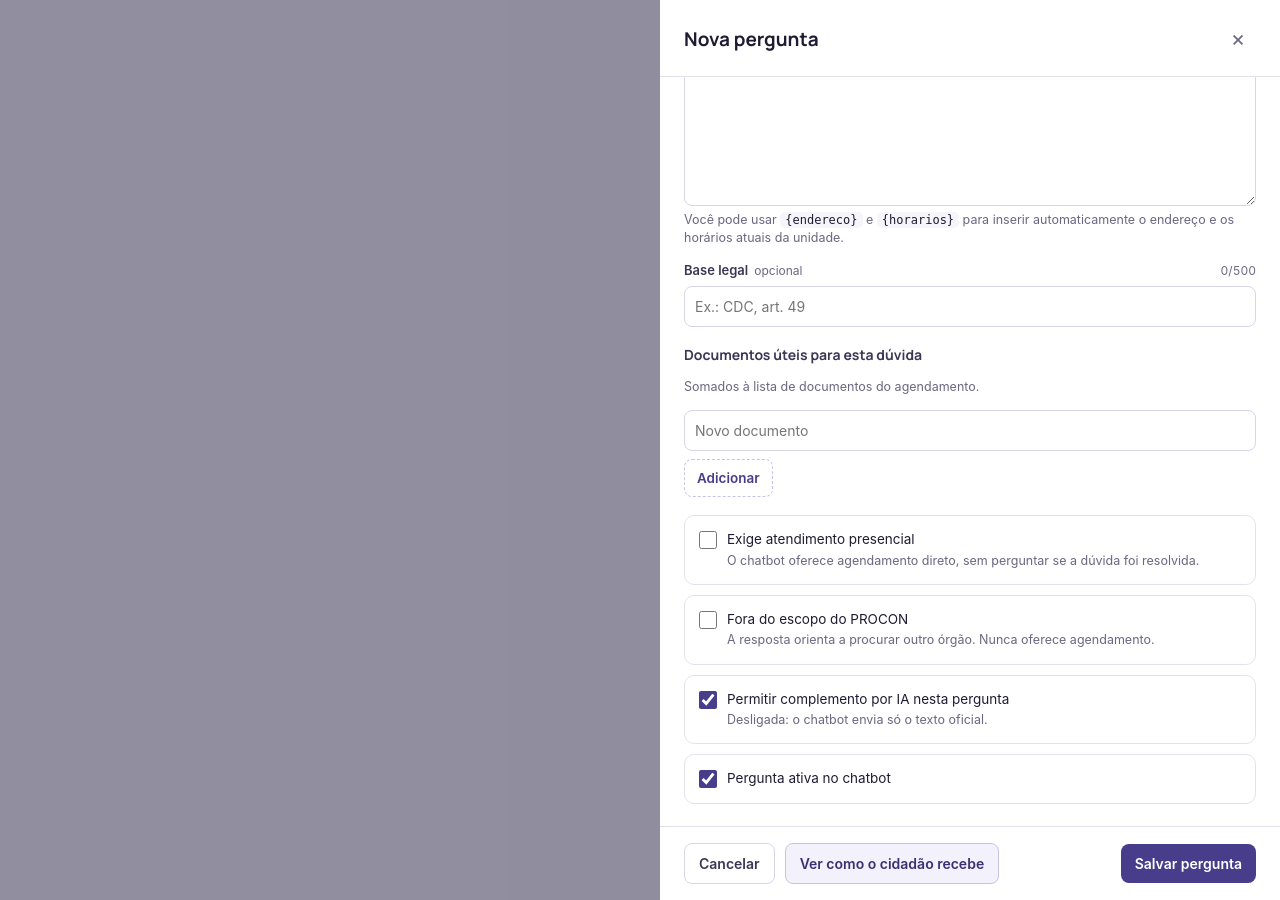
ContentQuestionForm › marcar presencial desabilita Fora do escopo e vice-versa
(page scrolled)
Click the checkbox labelled "Exige atendimento presencial" at (708, 540), box 699,531 -> 717,549
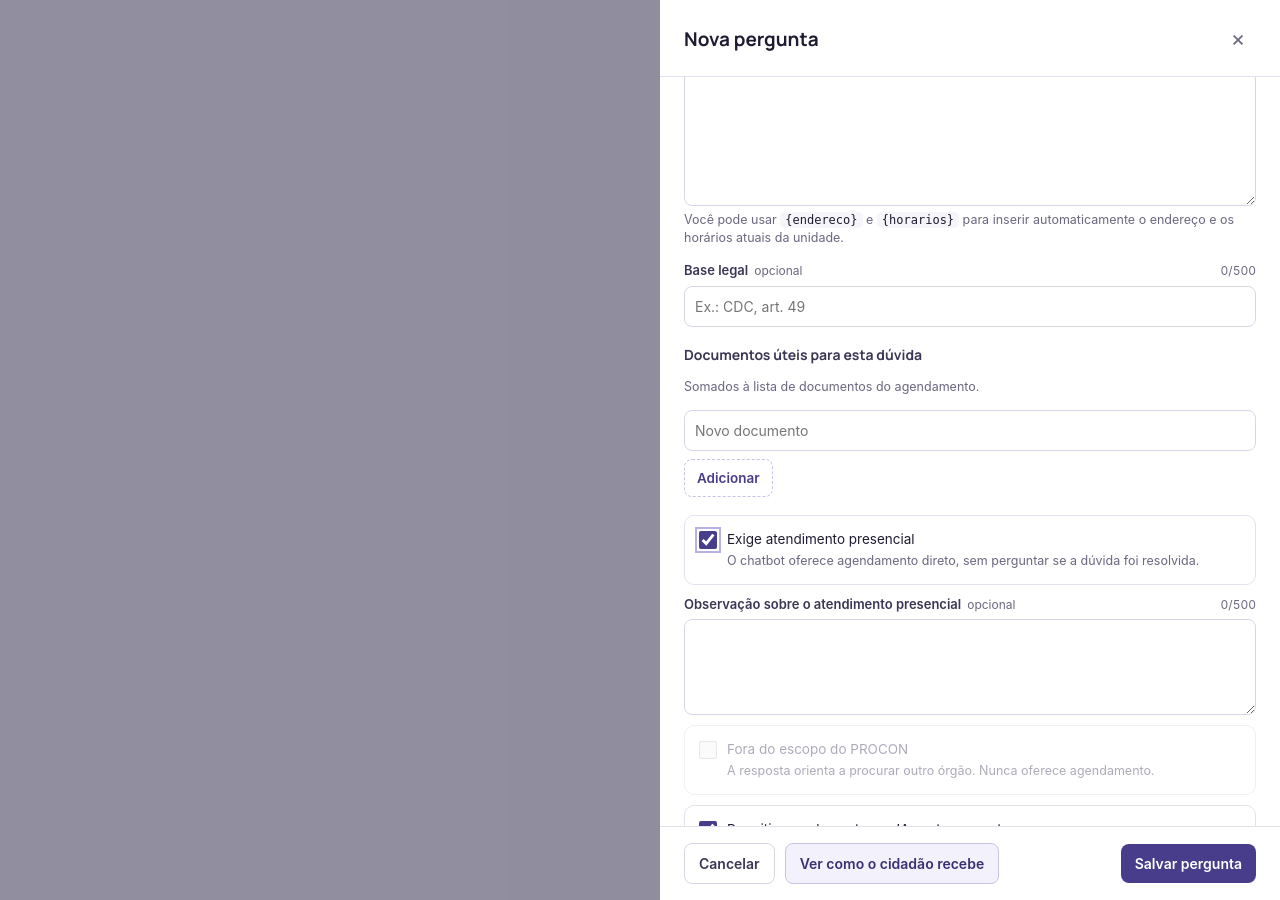
Now the checkbox labelled "Fora do escopo do PROCON" is disabled, box 699,741 -> 717,759
Click the checkbox labelled "Exige atendimento presencial" at (708, 540), box 699,531 -> 717,549
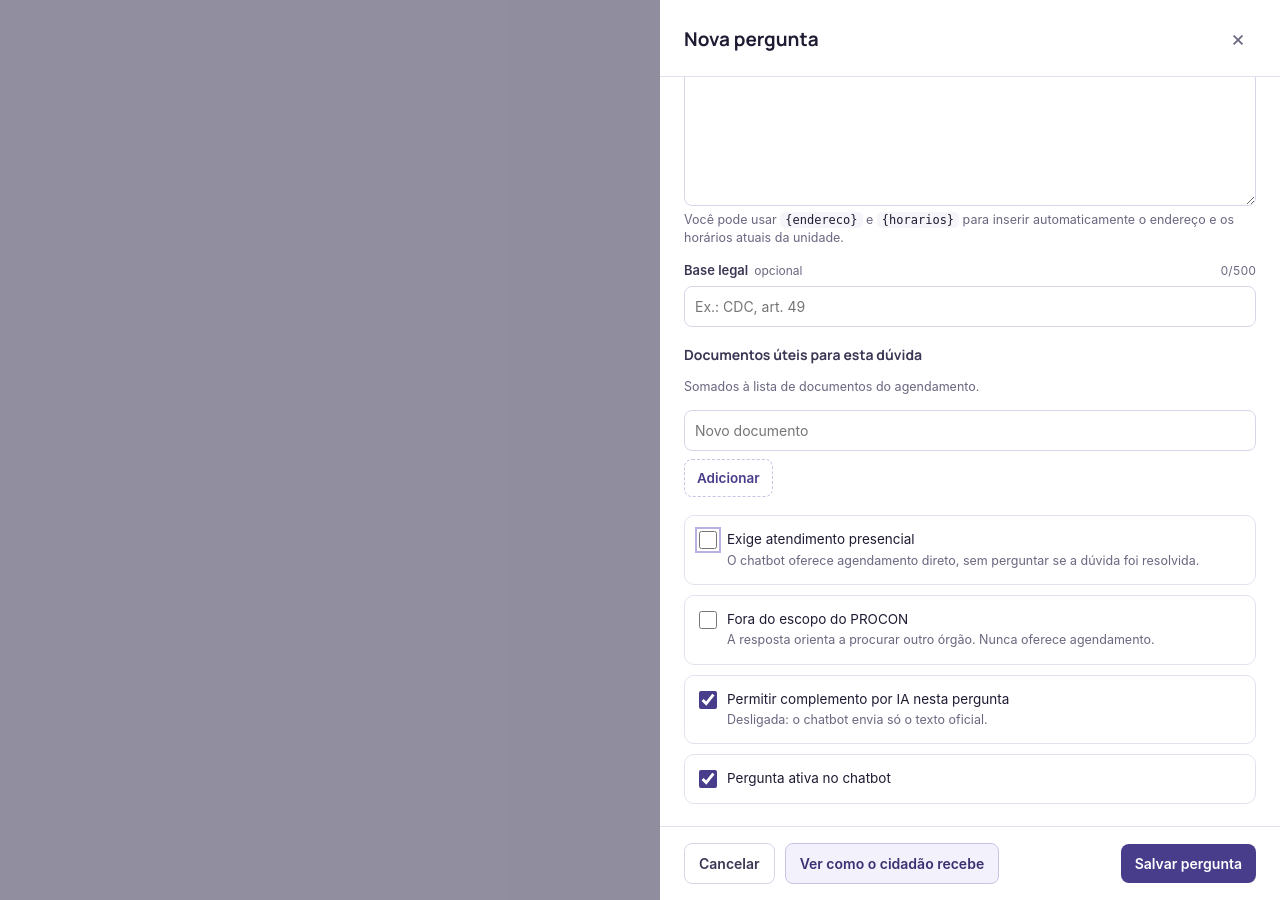
Now the checkbox labelled "Fora do escopo do PROCON" is enabled
Click the checkbox labelled "Fora do escopo do PROCON" at (708, 620), box 699,611 -> 717,629
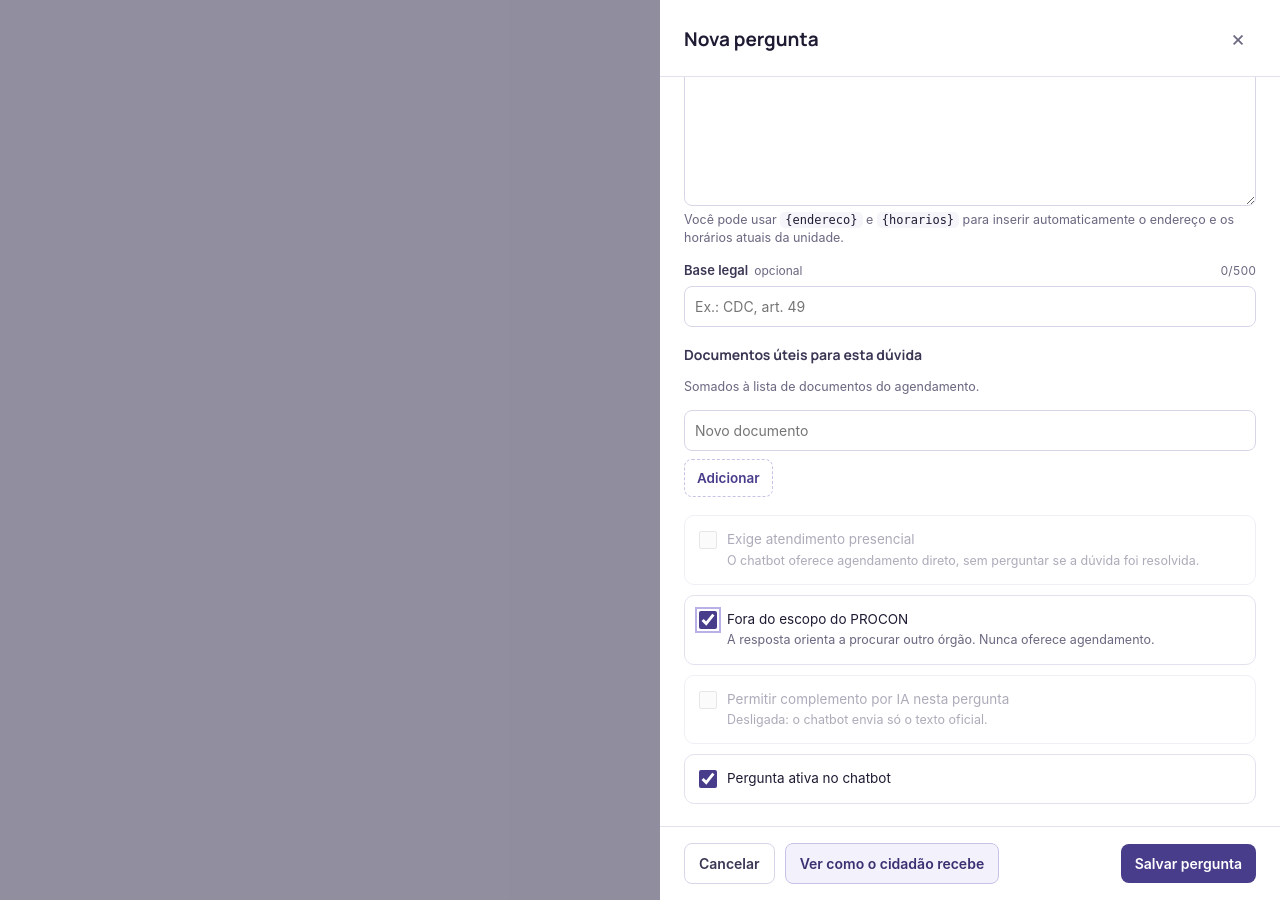
Now the checkbox labelled "Exige atendimento presencial" is disabled, box 699,531 -> 717,549
